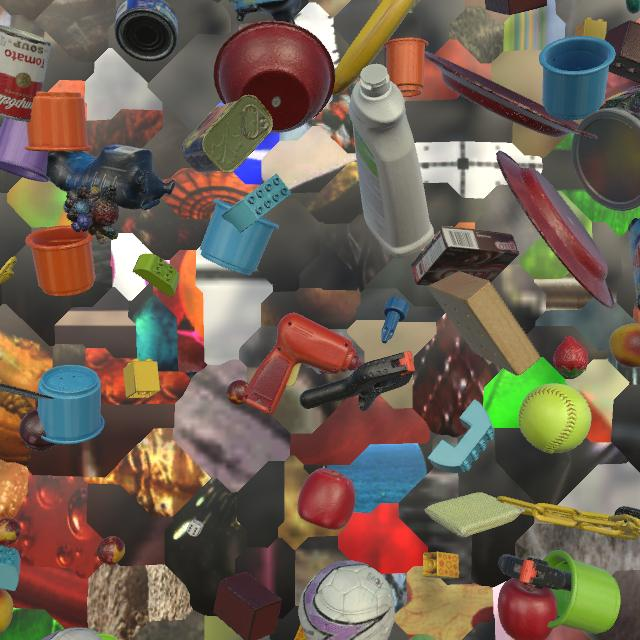ycb_005_tomato_soup_can: (0, 25, 51, 122)
ycb_007_tuna_fish_can: (114, 0, 178, 62)
ycb_008_pudding_box: (411, 226, 519, 286)
ycb_010_potted_meat_can: (182, 95, 273, 173)
ycb_011_banana: (332, 0, 416, 95)
ycb_012_strawberry: (553, 336, 588, 378)
ycb_013_apple: (498, 578, 558, 640), (297, 468, 356, 530)
ycb_015_peach: (609, 323, 640, 368), (0, 588, 13, 634)
ycb_018_plum: (19, 409, 57, 451)
